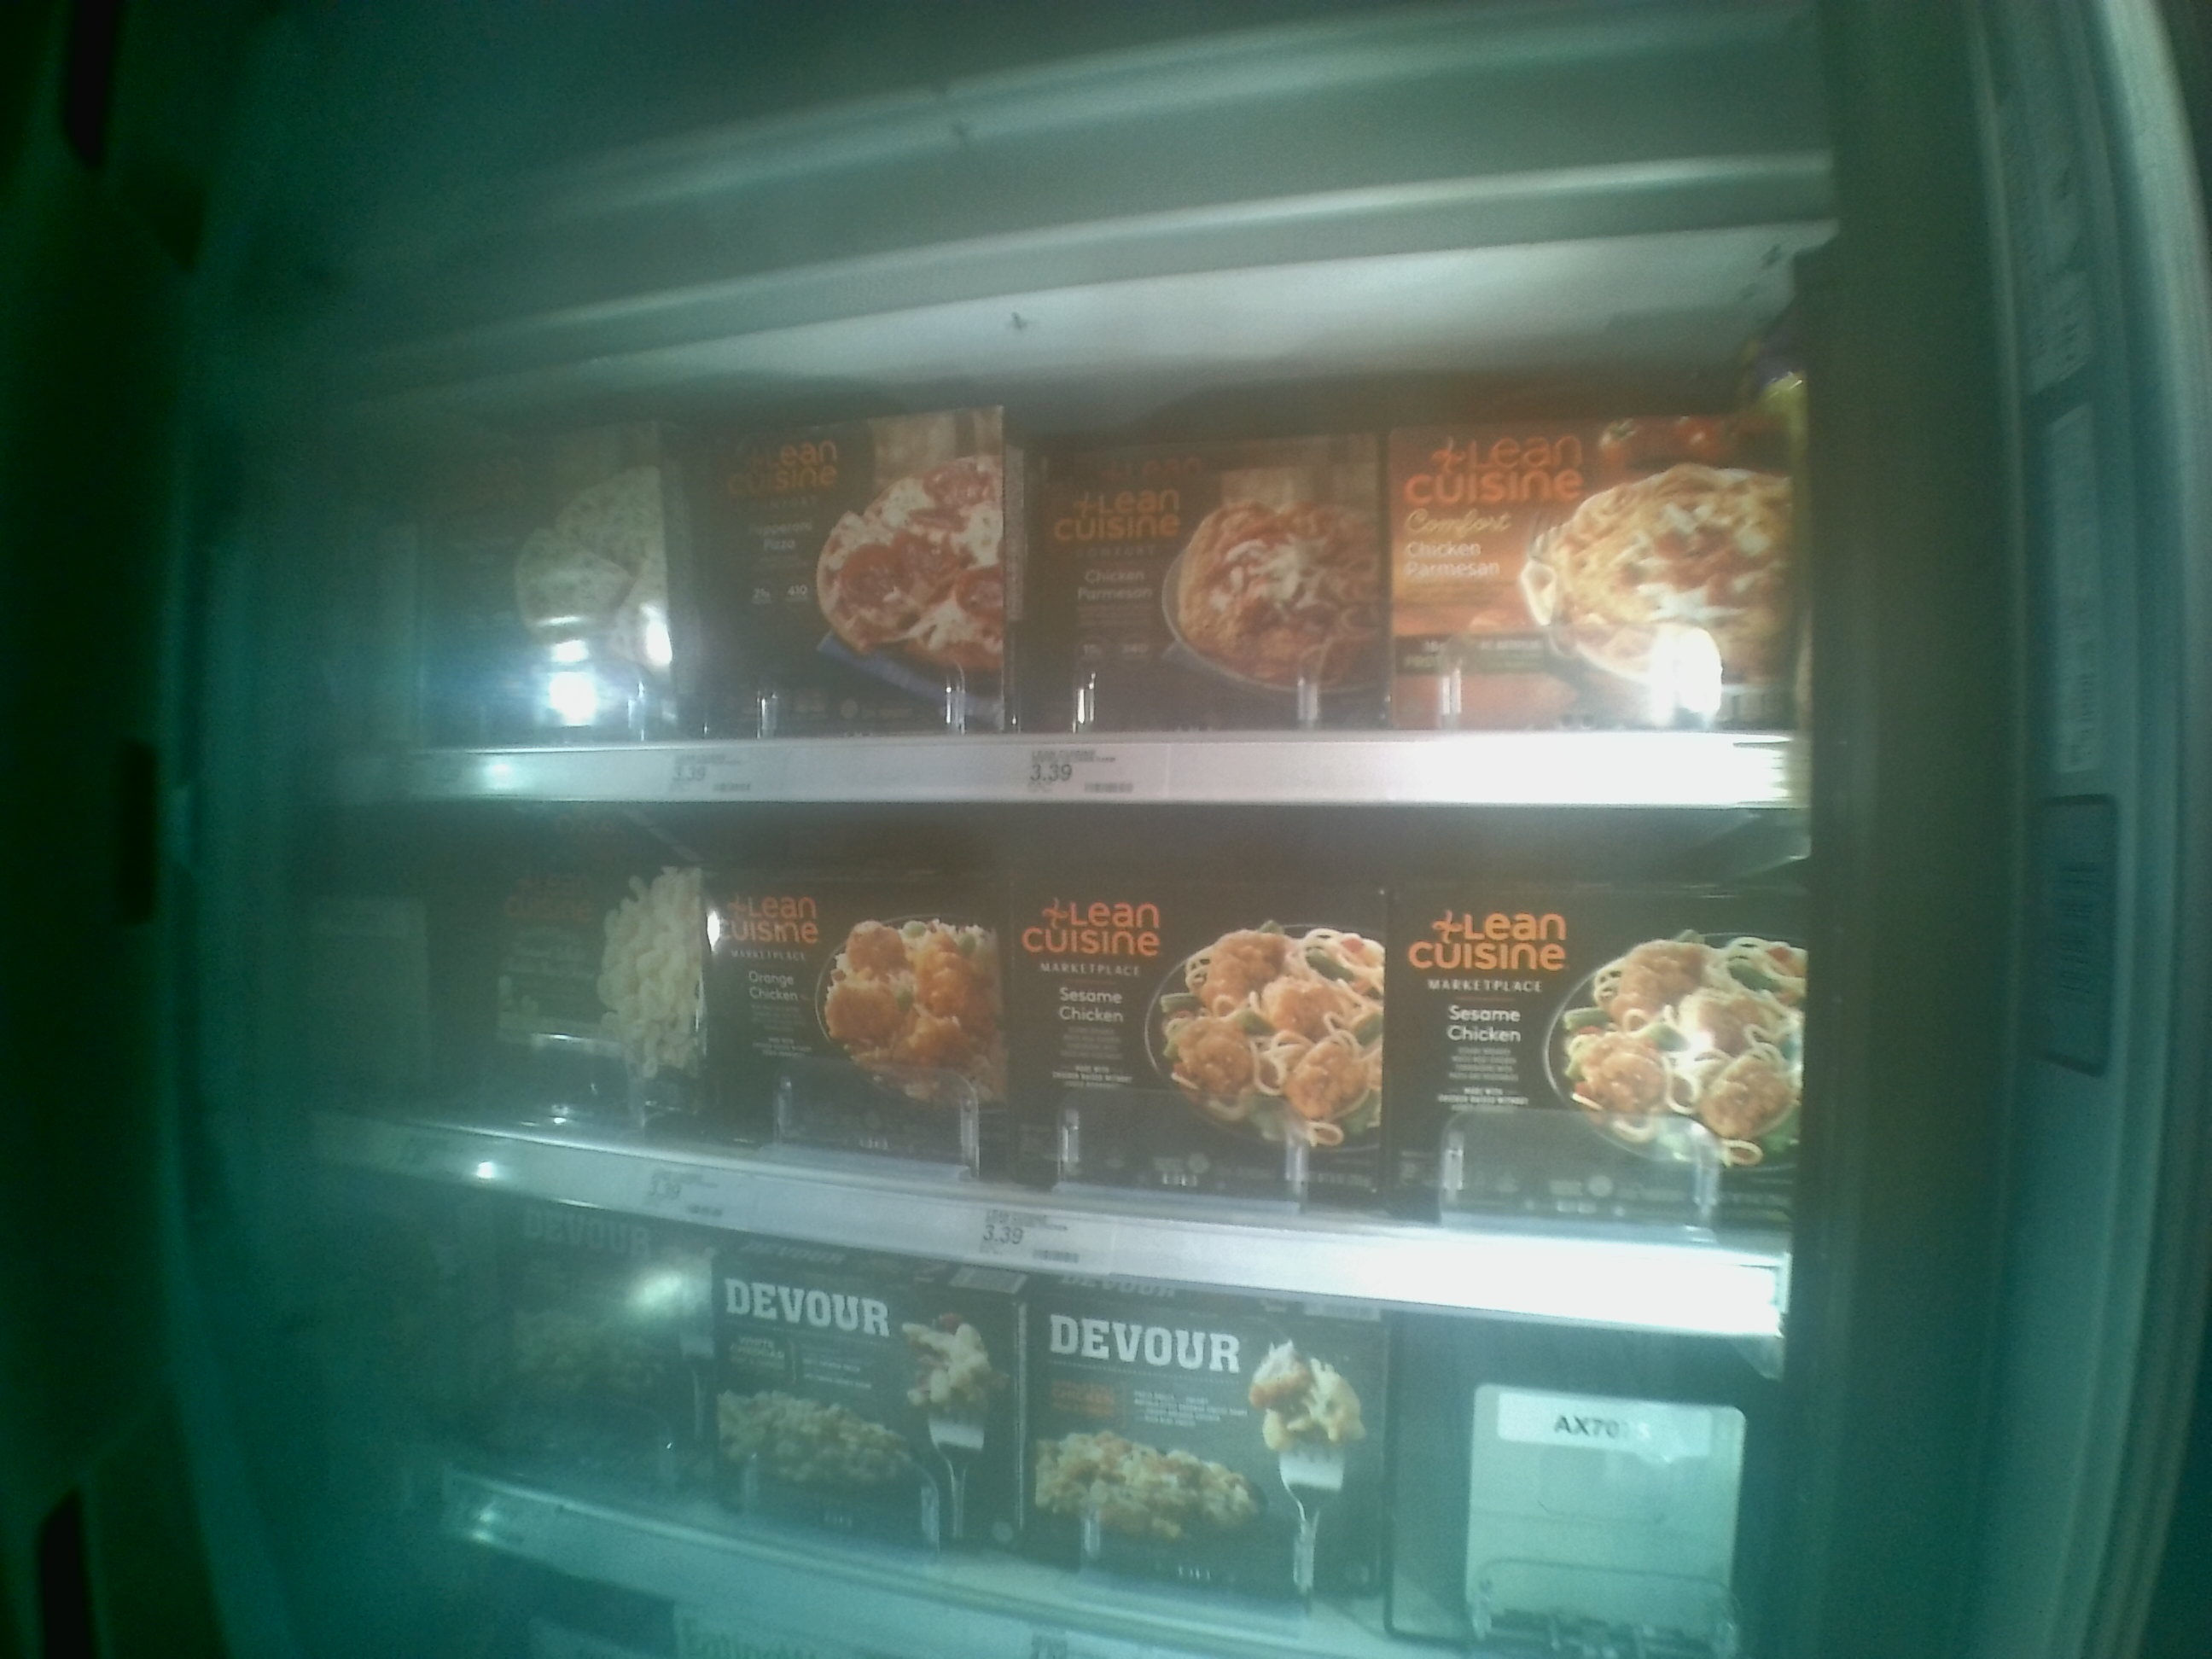shelf: (320, 807, 1811, 1344), (336, 310, 1797, 812)
